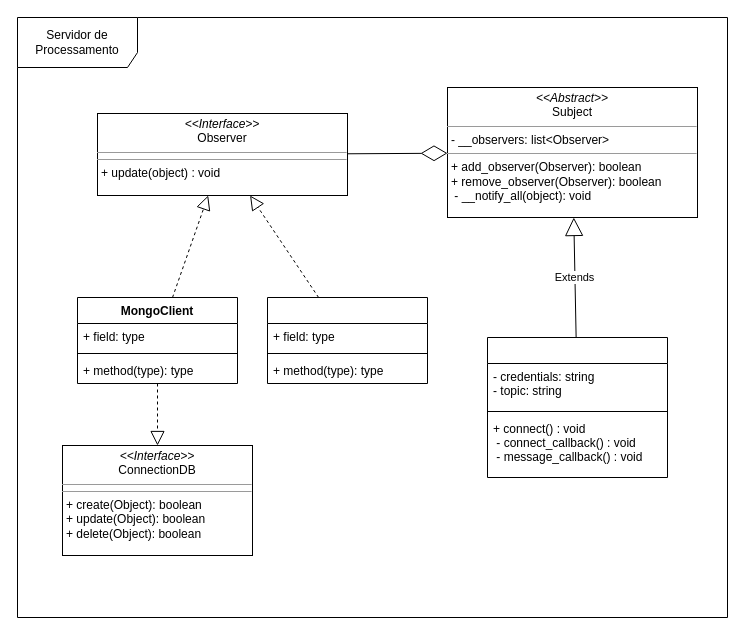
This 745x635 diagram has some shape labels left out. Here are the shapes that lost their labels. From the top down, the box of each, then its label:
(266, 296, 428, 384): CloudVisionClient
(486, 336, 668, 478): MQTTClient
